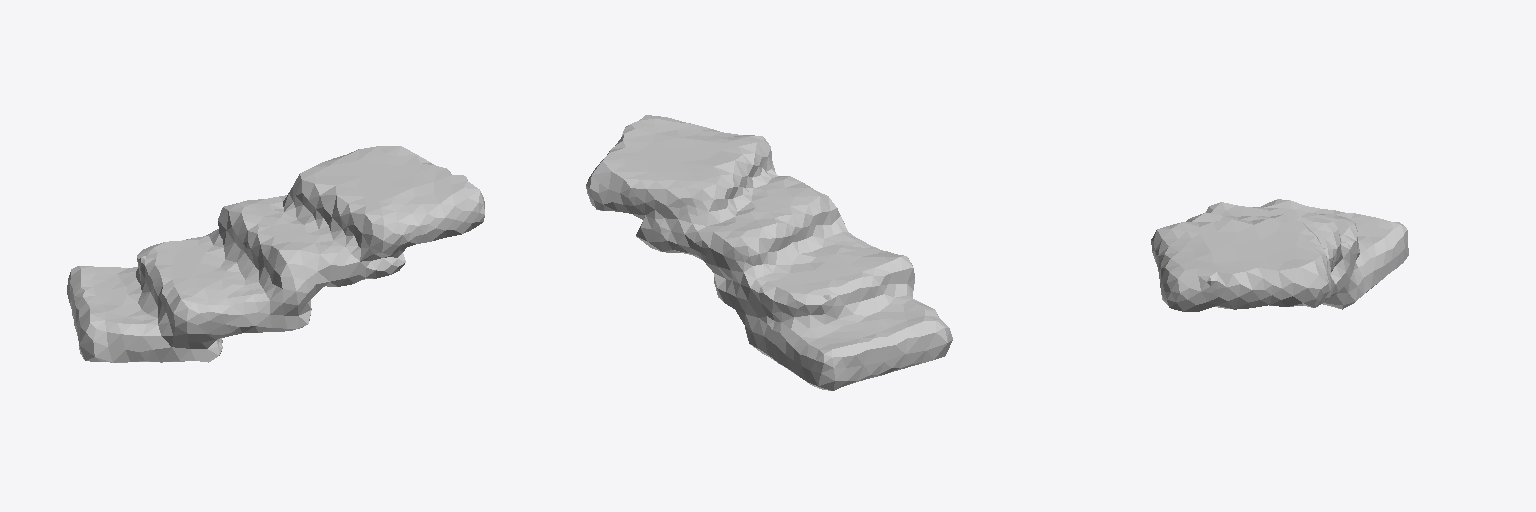
The model's file is plataforma_4.obj.
3 views of the same model, side by side, from view 1: azimuth 30°, elevation 25°; view 2: azimuth 150°, elevation 25°; view 3: azimuth 270°, elevation 25° (orthographic).
Visible parts, largest first — view 1: StonePlatform_B:Stone_B; view 2: StonePlatform_B:Stone_B; view 3: StonePlatform_B:Stone_B.
Part boxes in pixels (x1,y1,x2,y2): StonePlatform_B:Stone_B: (67,146,484,362); StonePlatform_B:Stone_B: (586,115,952,390); StonePlatform_B:Stone_B: (1151,199,1408,311).
Bounding box in the file's own units: 3.99 × 1.39 × 2.5.